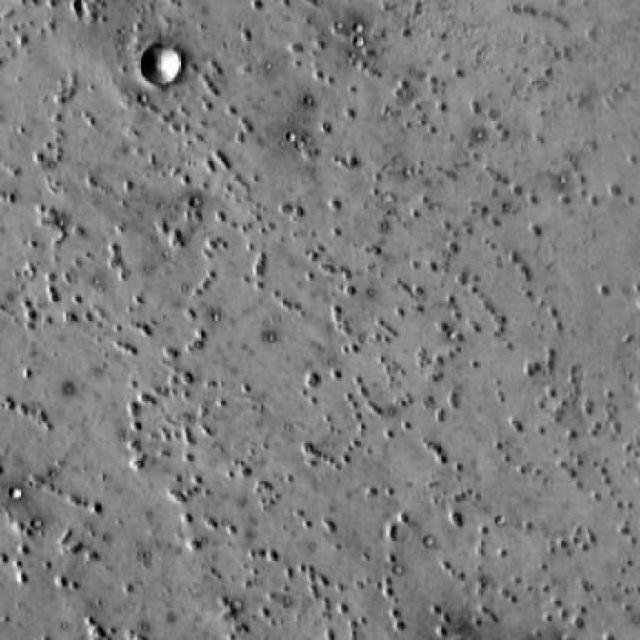crater: (143, 46, 183, 86)
